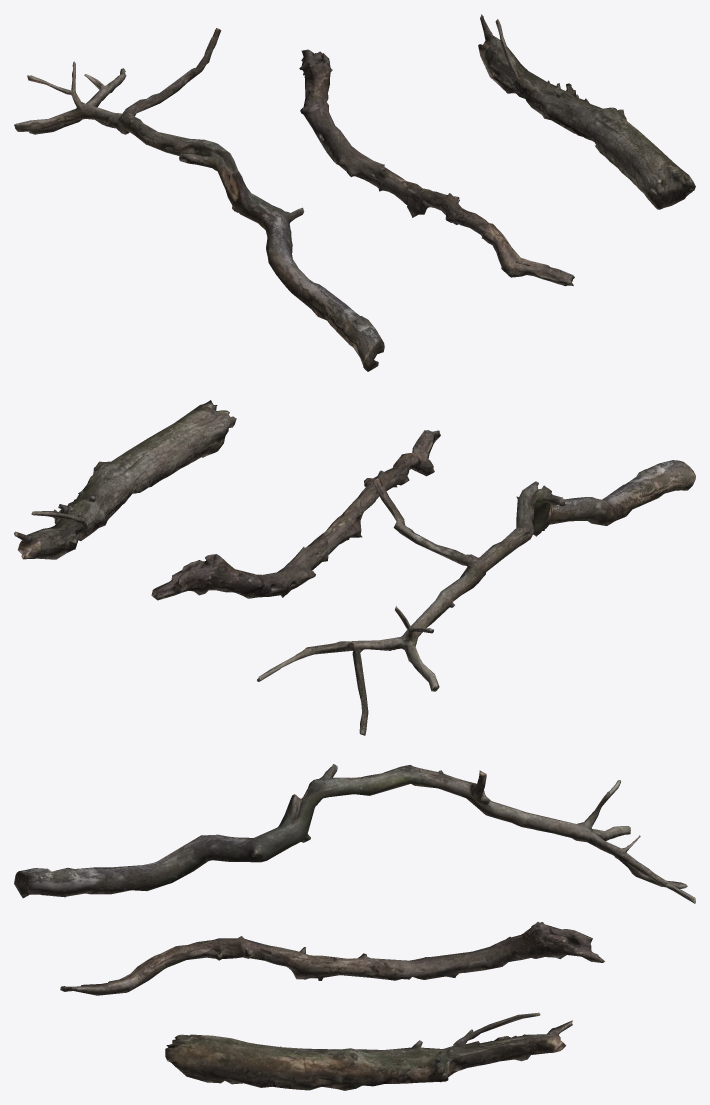
File: dry_branches_medium_01.glb
3 views of the same model, one above another, from view 1: azimuth 30°, elevation 25°; view 2: azimuth 150°, elevation 25°; view 3: azimuth 270°, elevation 25° (orthographic). The views are drawn at different scales.
Visible parts, largest first — view 1: dry_branches_medium_01_c; view 2: dry_branches_medium_01_c; view 3: dry_branches_medium_01_c.
Boxes of the visible parts, x1=… form: dry_branches_medium_01_c: x1=14, y1=14, x2=695, y2=371; dry_branches_medium_01_c: x1=14, y1=400, x2=695, y2=735; dry_branches_medium_01_c: x1=14, y1=764, x2=695, y2=1090.
Size of the model in its own units: 1.06 by 0.341 by 1.3.
1 material, 1 textured.
